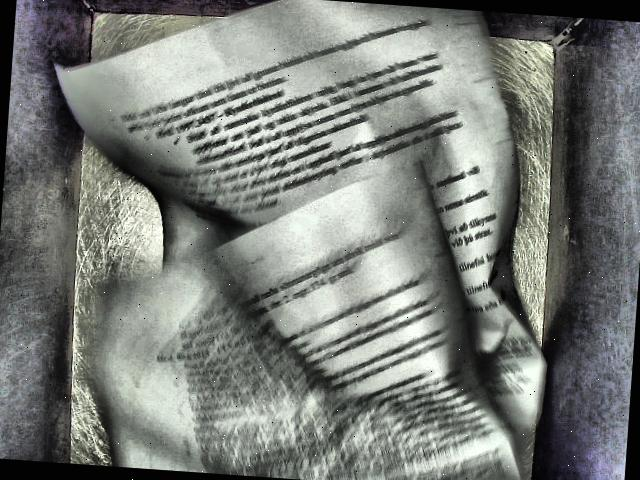Paper: (20, 0, 587, 480)
